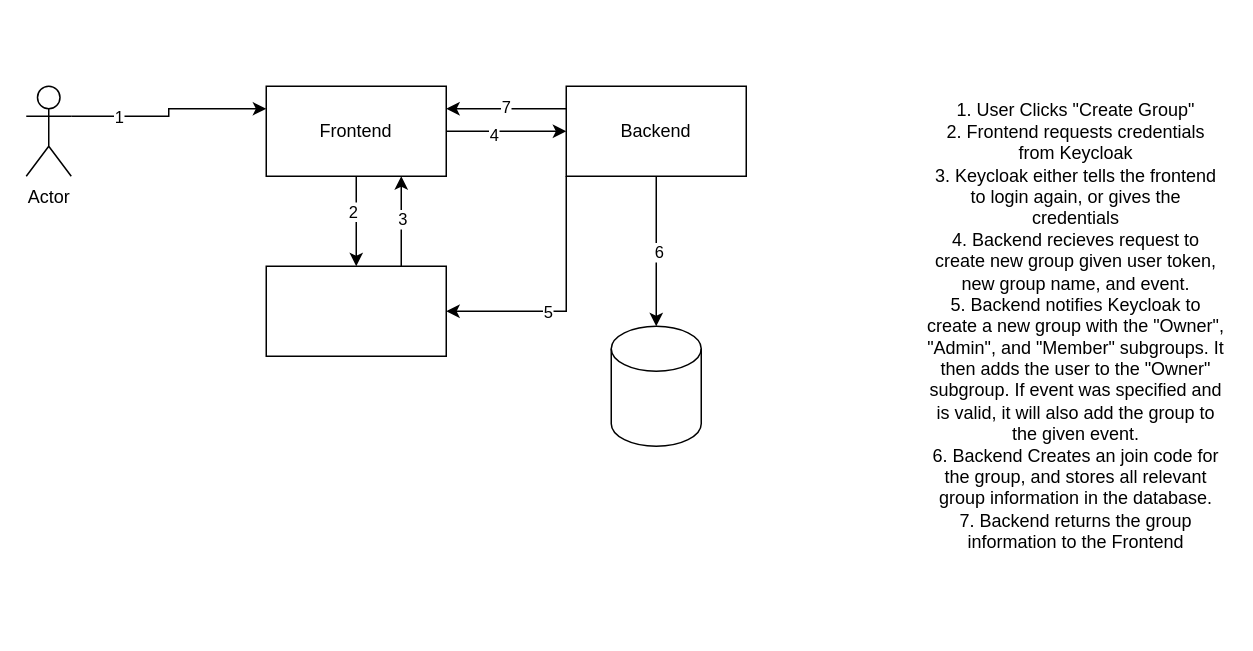
This 1253x651 diagram has some shape labels left out. The centre of each missing label's shape, as x and y in pixels:
"Keycloak" belongs at point 355,310.
"MongoDB" belongs at point 655,385.
